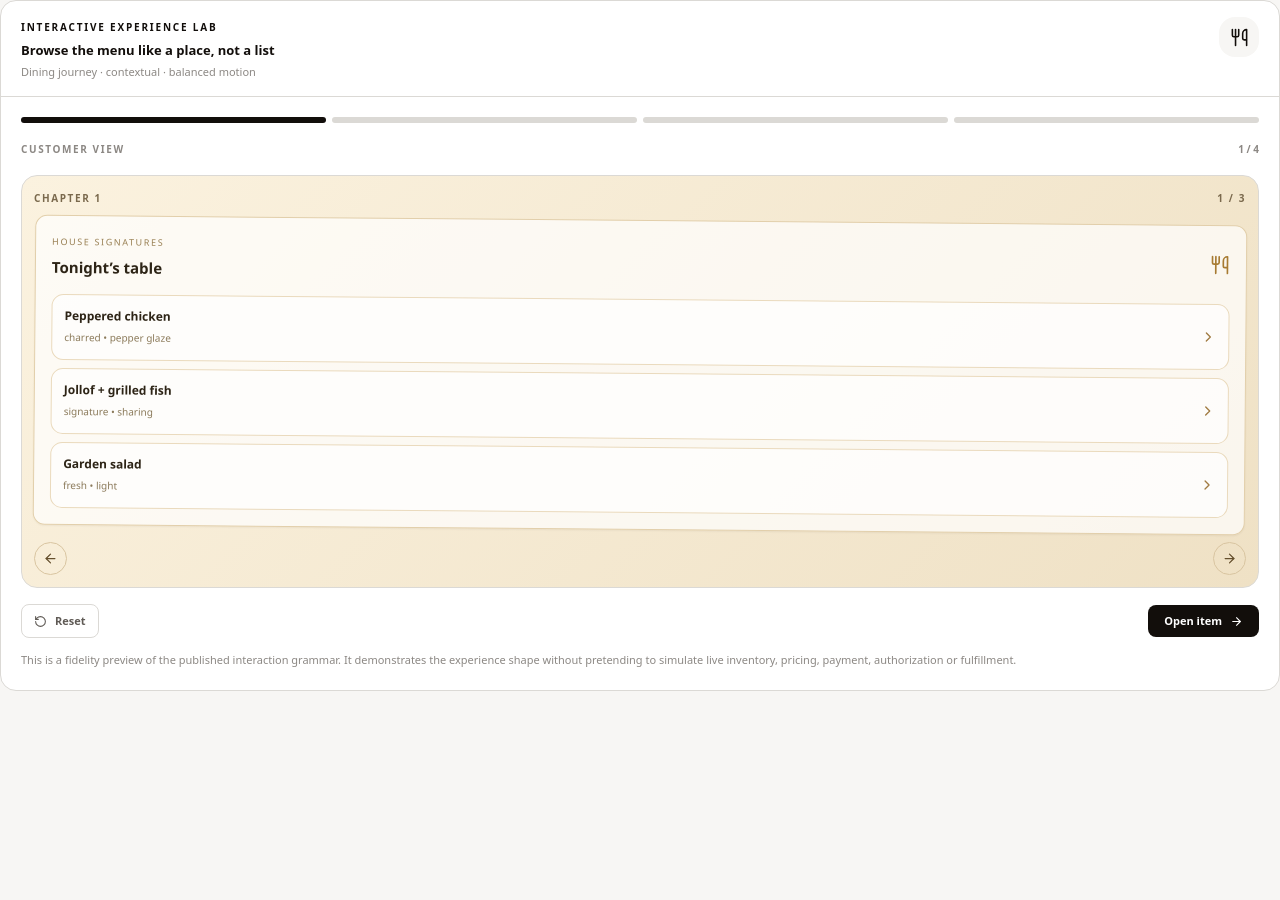
it: ExperienceSimulator › renders the restaurant journey and opens a dish detail from the menu
Expected: the heading "Browse the menu like a place, not a list" is shown, [21,41,275,60]
Click the button "Peppered chicken charred • pepper glaze" at (118, 316), box [51,294,1230,370]
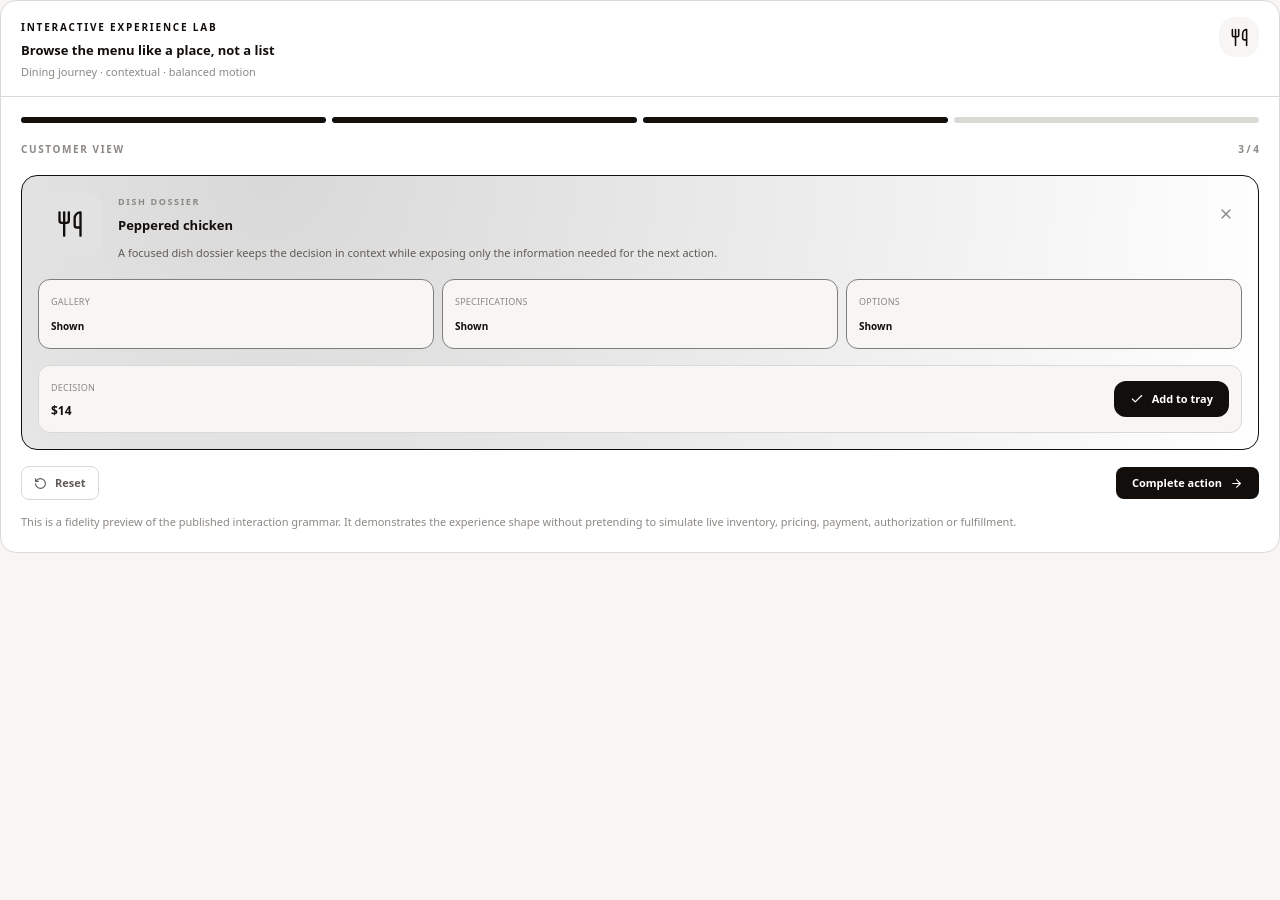
Expected: the heading "Peppered chicken" is shown, [118,216,233,235]
